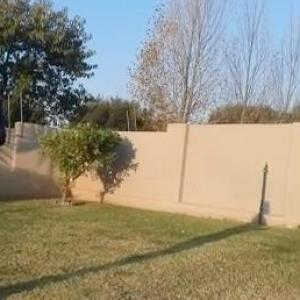follow: (0, 27, 15, 299)
